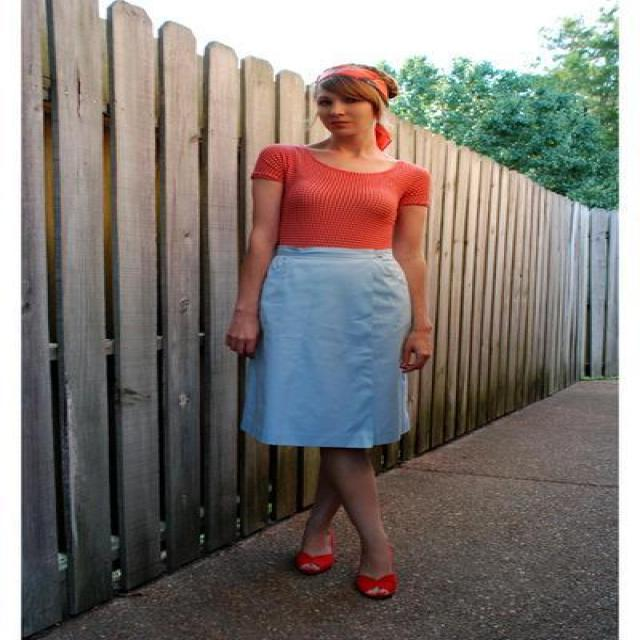shirt: (253, 147, 429, 249)
shoe: (301, 536, 397, 594)
skirt: (213, 247, 416, 447)
